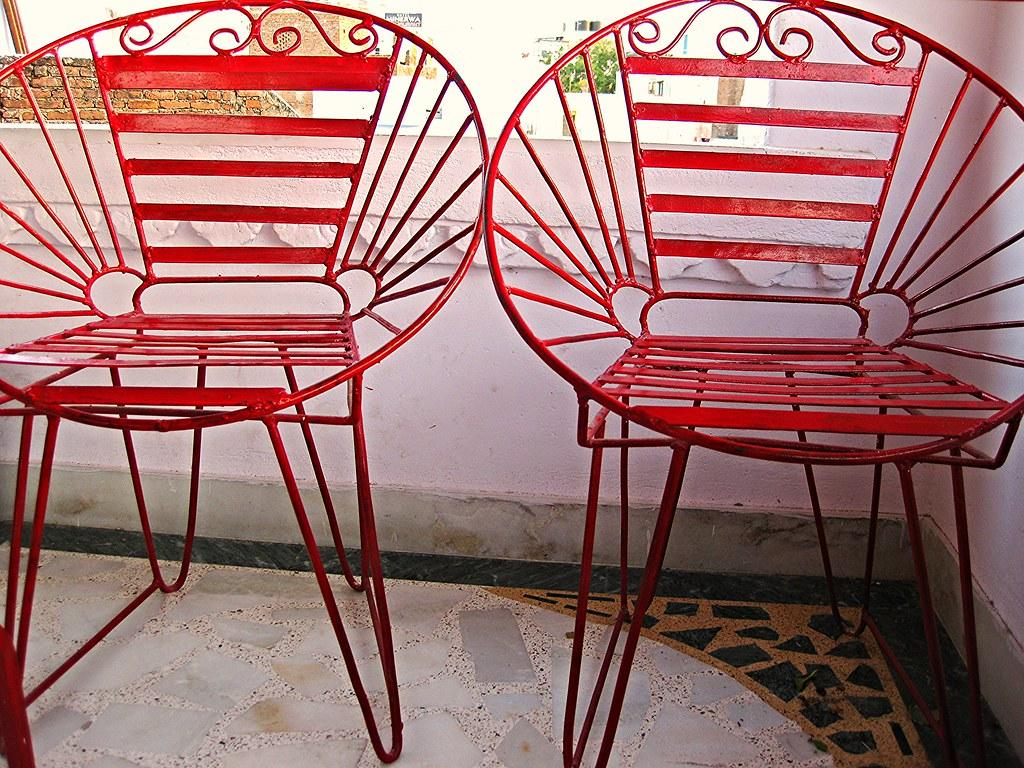chair: (483, 1, 1024, 767), (1, 1, 490, 766)
